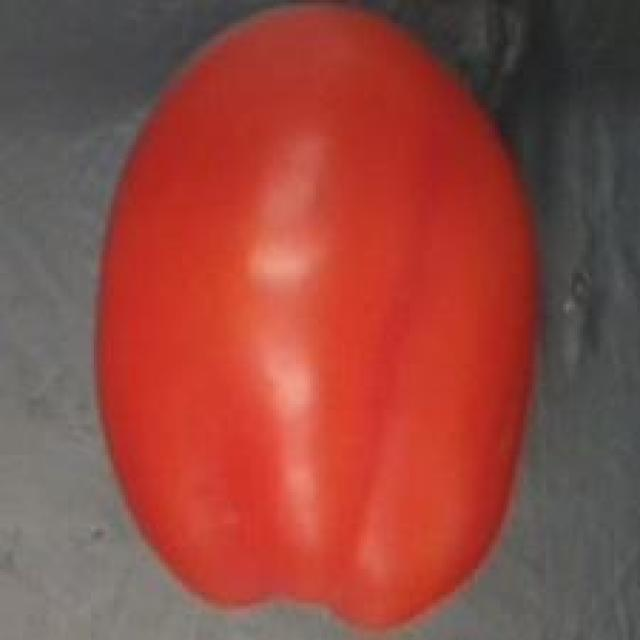ripe tomato: (68, 0, 555, 640)
